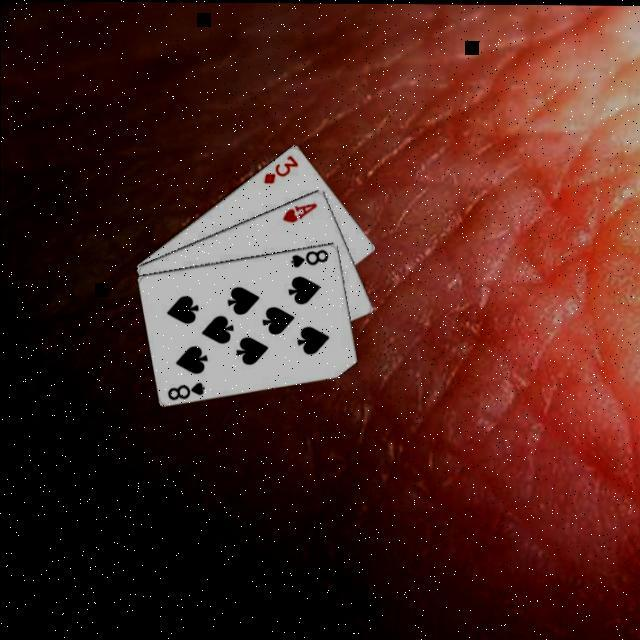3D: (259, 149, 299, 184)
8S: (163, 376, 206, 401), (286, 244, 329, 268)
AH: (278, 196, 318, 222)
